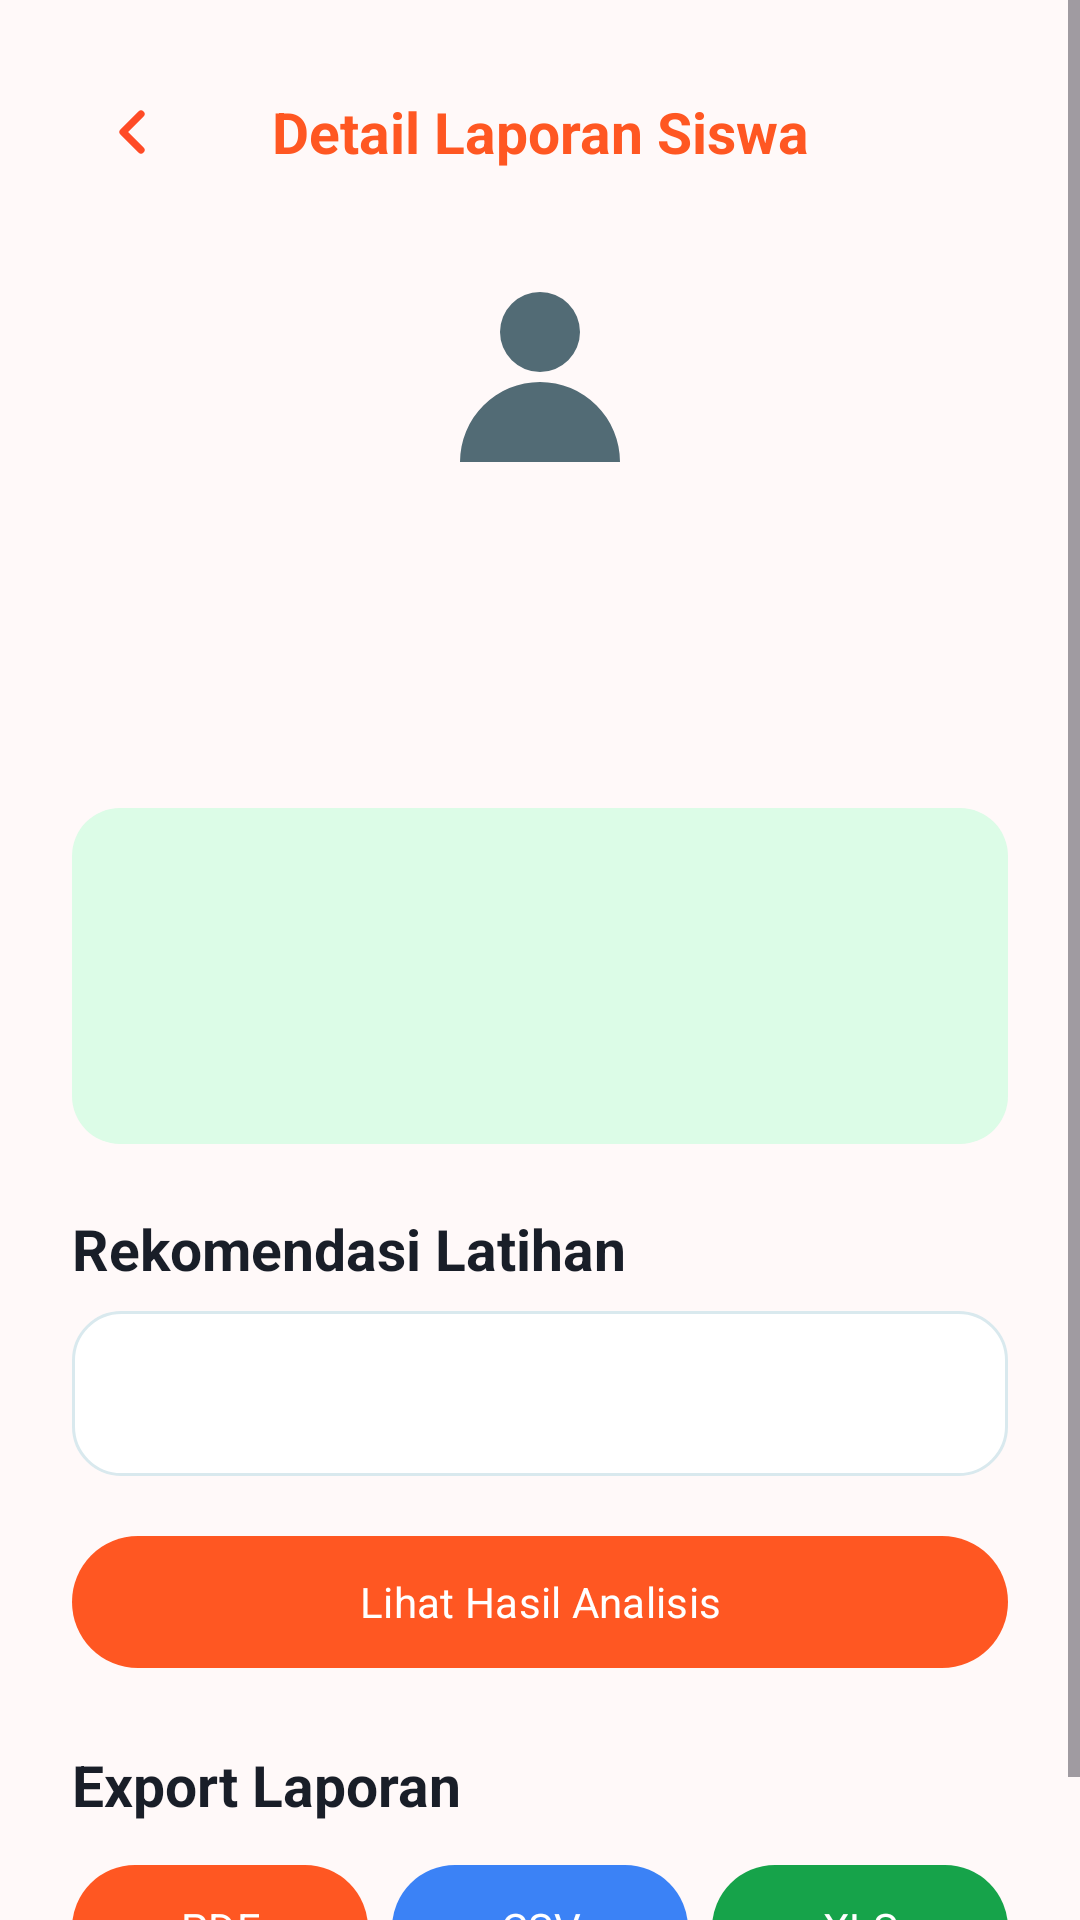

Named icons in this screenshot (1080×1920) and their bounding boxes, (left=x1, top=y1, right=x2, bottom=y2):
Foto siswa: (left=460, top=292, right=620, bottom=462)
Kembali: (left=119, top=110, right=145, bottom=154)
